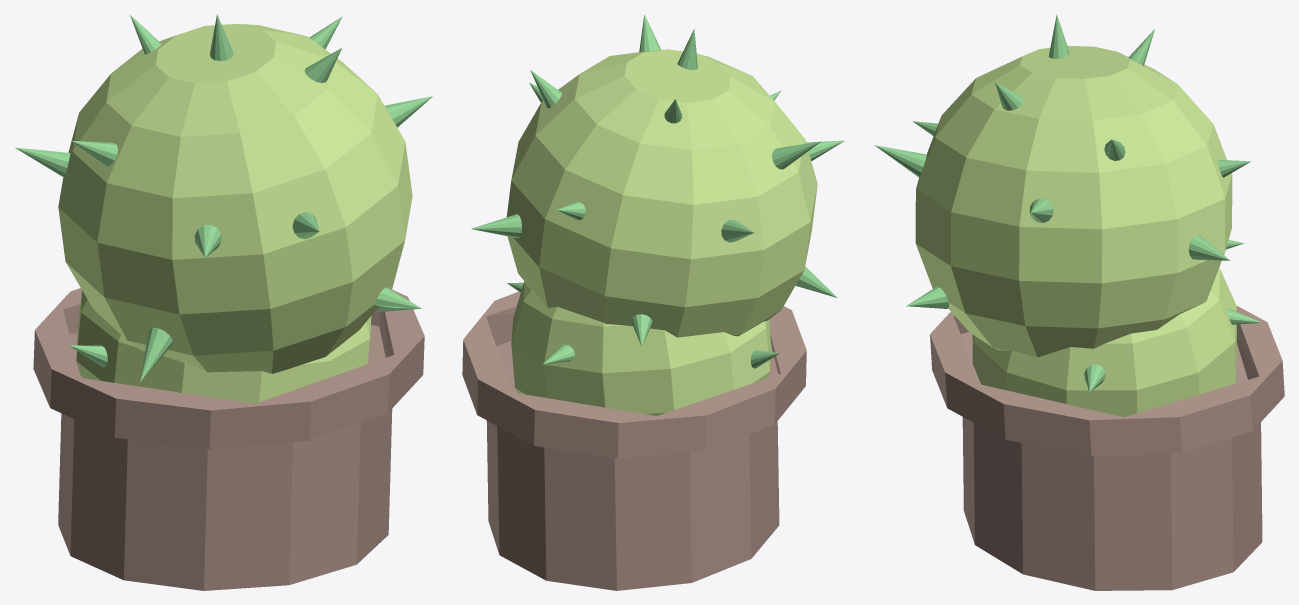
The picture shows the model from 3 angles, left to right: view 1: azimuth 30°, elevation 25°; view 2: azimuth 150°, elevation 25°; view 3: azimuth 270°, elevation 25°; orthographic projection. The views are drawn at different scales.
Parts seen in each view (by area): view 1: mesh437856633, mesh1251195763, mesh623854462, mesh437878947, mesh955477674, mesh99225649, mesh371014573, mesh995635374, mesh1091377407, mesh1499698778, mesh1776667674, mesh823513830 (+1 smaller); view 2: mesh437856633, mesh1251195763, mesh623854462, mesh437878947, mesh1975194433, mesh371014573, mesh98370858, mesh955477674, mesh99225649; view 3: mesh437856633, mesh1251195763, mesh623854462, mesh437878947, mesh764249020, mesh1975194433, mesh995635374.
Boxes of the visible parts, x1,y1,x2,y2 form: mesh437856633: [58, 24, 412, 373]; mesh1251195763: [58, 409, 392, 590]; mesh623854462: [33, 288, 424, 449]; mesh437878947: [76, 290, 371, 403]; mesh955477674: [140, 327, 172, 382]; mesh99225649: [15, 147, 70, 177]; mesh371014573: [71, 140, 117, 166]; mesh995635374: [374, 287, 421, 312]; mesh1091377407: [210, 14, 233, 60]; mesh1499698778: [194, 225, 221, 257]; mesh1776667674: [385, 96, 432, 127]; mesh823513830: [304, 48, 341, 82]; mesh437856633: [506, 49, 817, 337]; mesh1251195763: [486, 420, 779, 590]; mesh623854462: [462, 291, 806, 458]; mesh437878947: [511, 281, 771, 415]; mesh1975194433: [471, 214, 521, 238]; mesh371014573: [772, 141, 821, 169]; mesh98370858: [530, 70, 561, 108]; mesh955477674: [795, 266, 837, 297]; mesh99225649: [721, 219, 753, 242]; mesh437856633: [915, 45, 1232, 357]; mesh1251195763: [962, 417, 1262, 590]; mesh623854462: [930, 306, 1284, 456]; mesh437878947: [972, 268, 1237, 417]; mesh764249020: [875, 145, 926, 177]; mesh1975194433: [1188, 235, 1230, 260]; mesh995635374: [906, 286, 948, 308].
Bounding box in the file's own units: 29.5 × 44.31 × 32.71.
